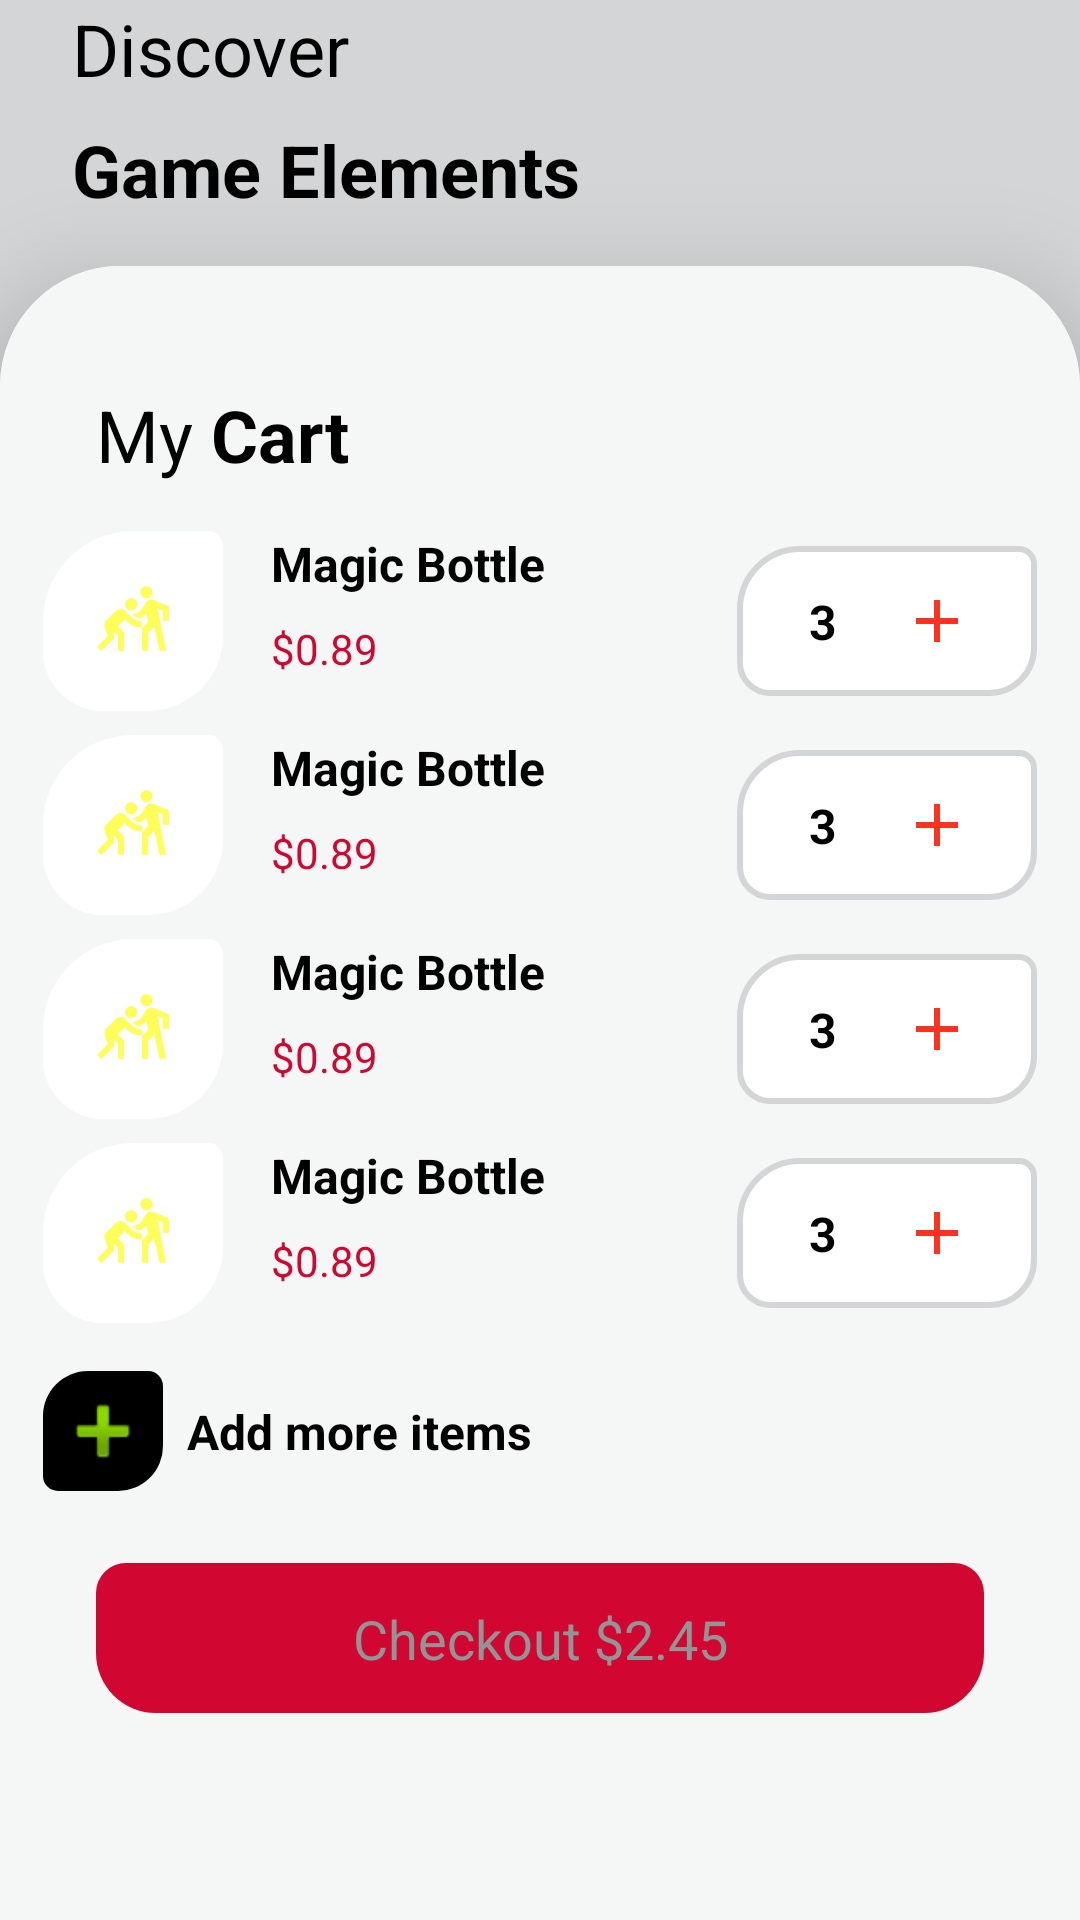

Screen size 1080×1920. Icon name, then its center in pixels as [x,y]:
sports kabaddi: [133,618], [133,822], [133,1026], [133,1230]
